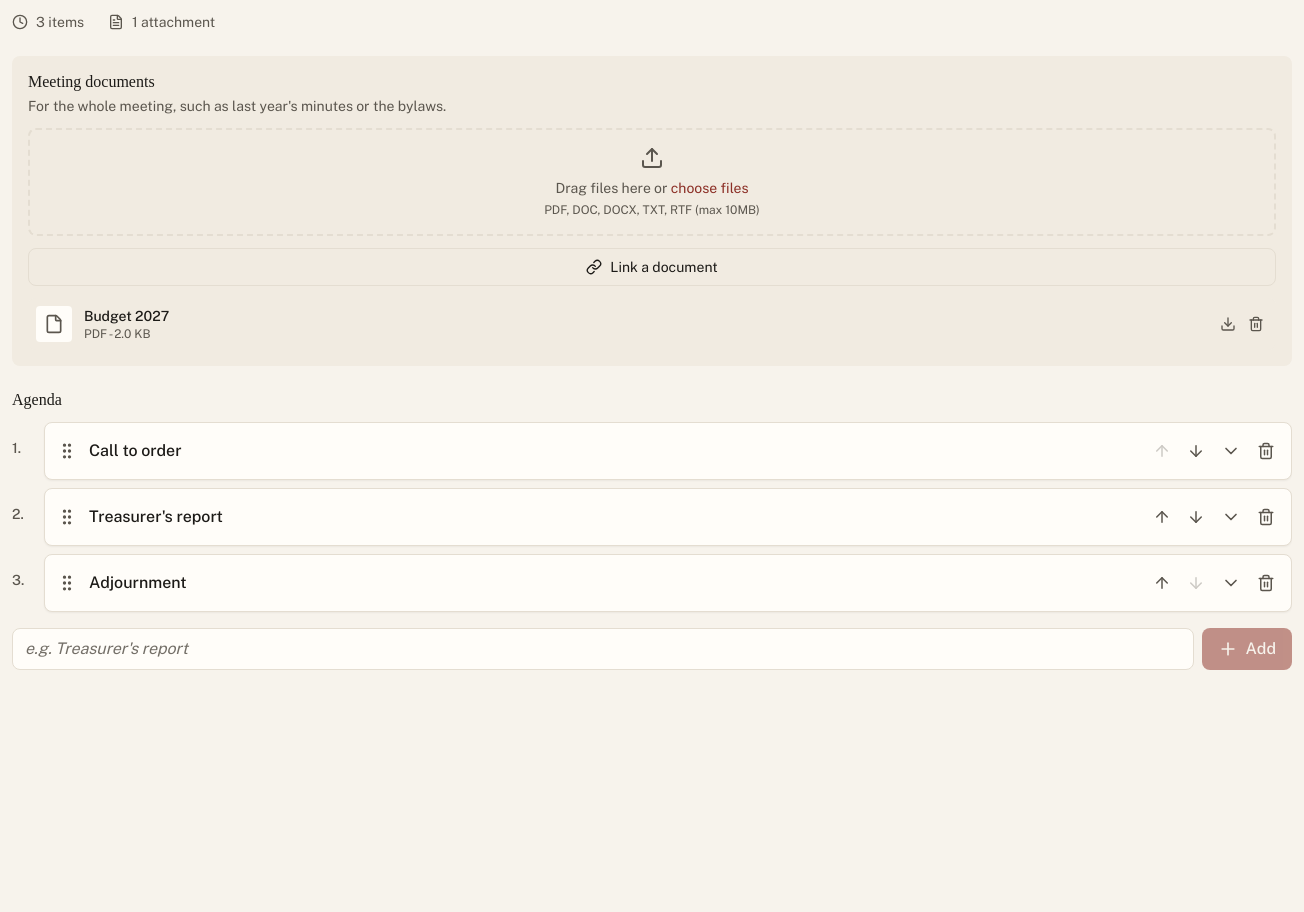
PacketBuilder › keeps an item the server refused to remove, and says why
Click the button named "Remove Adjournment": (1266, 583) [1253,570,1279,596]
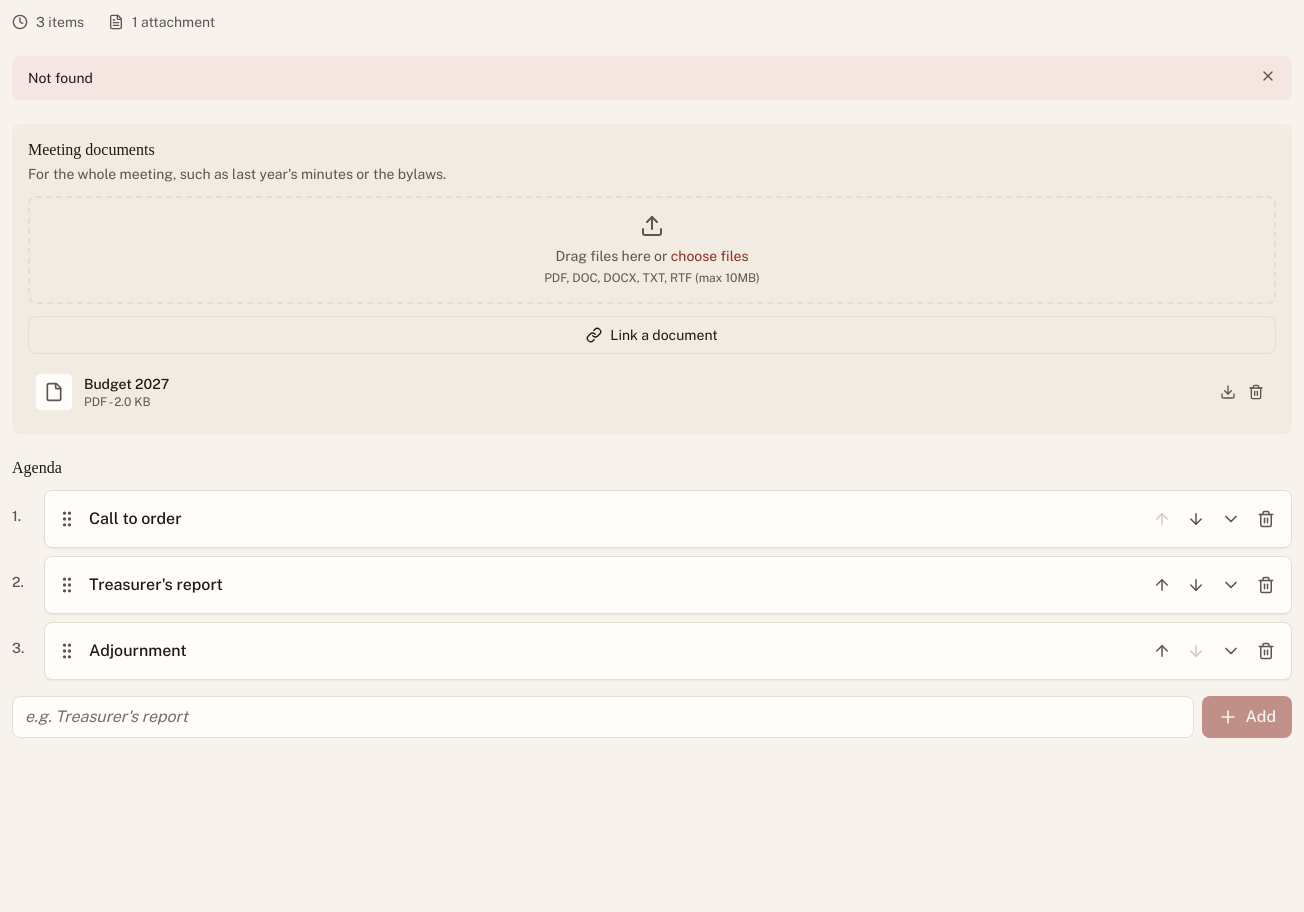
Check: the message reads "Not found", box [28,70,93,86]
